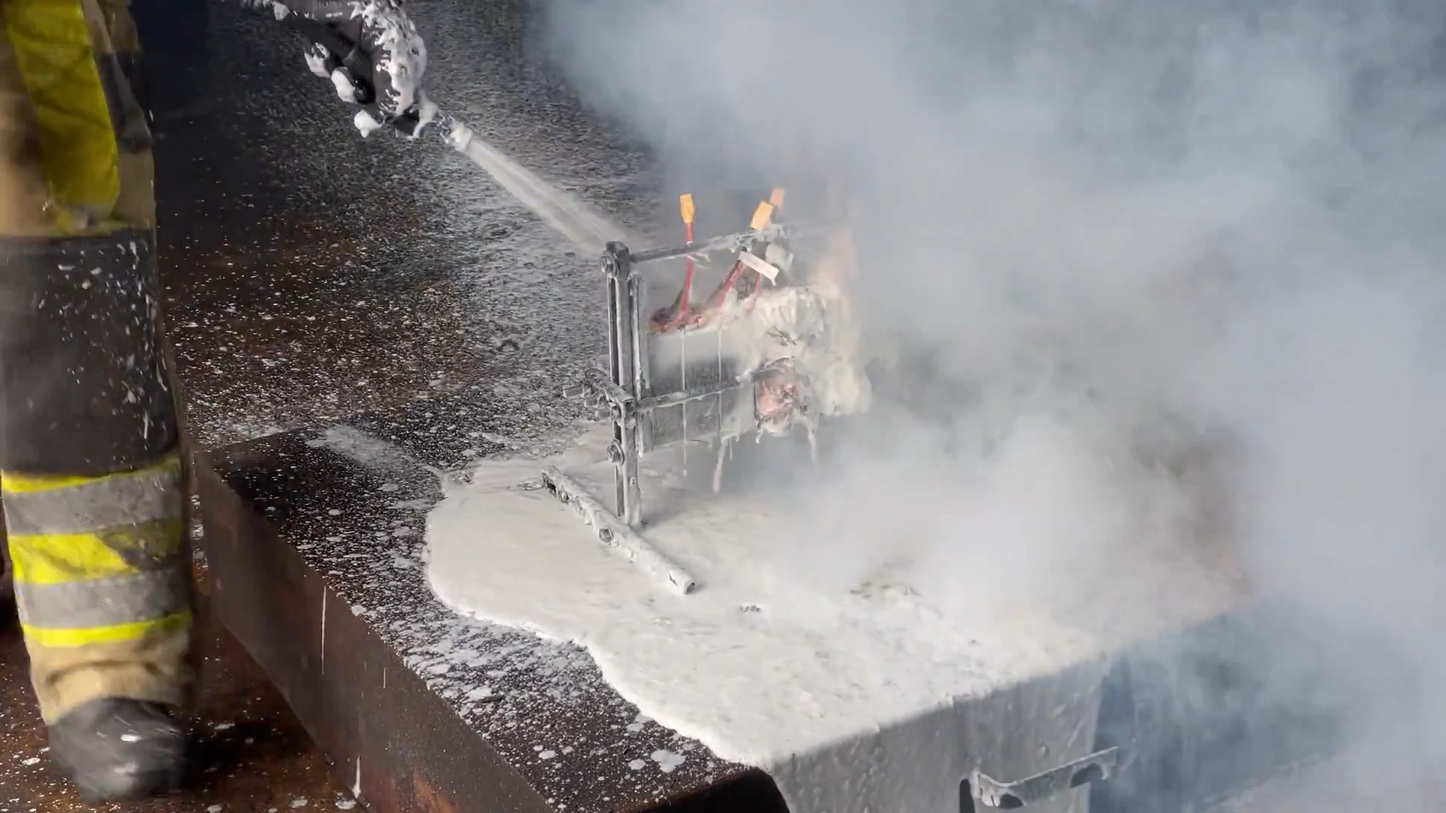fire: (809, 215, 865, 327)
smoke: (532, 0, 1446, 774)
